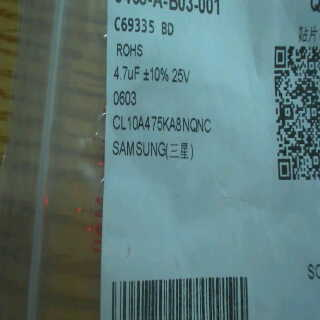4.7uF: (113, 63, 145, 82)
